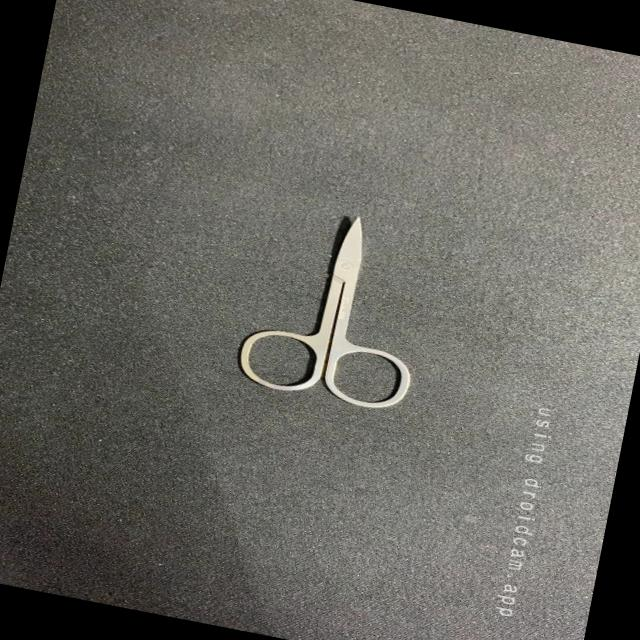scissor: (212, 191, 448, 420)
